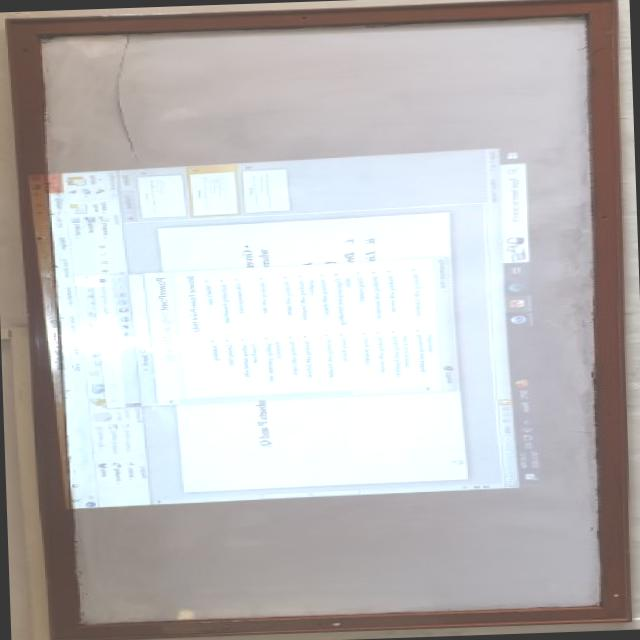Slide: (25, 141, 547, 507)
White-board: (20, 8, 613, 632)
